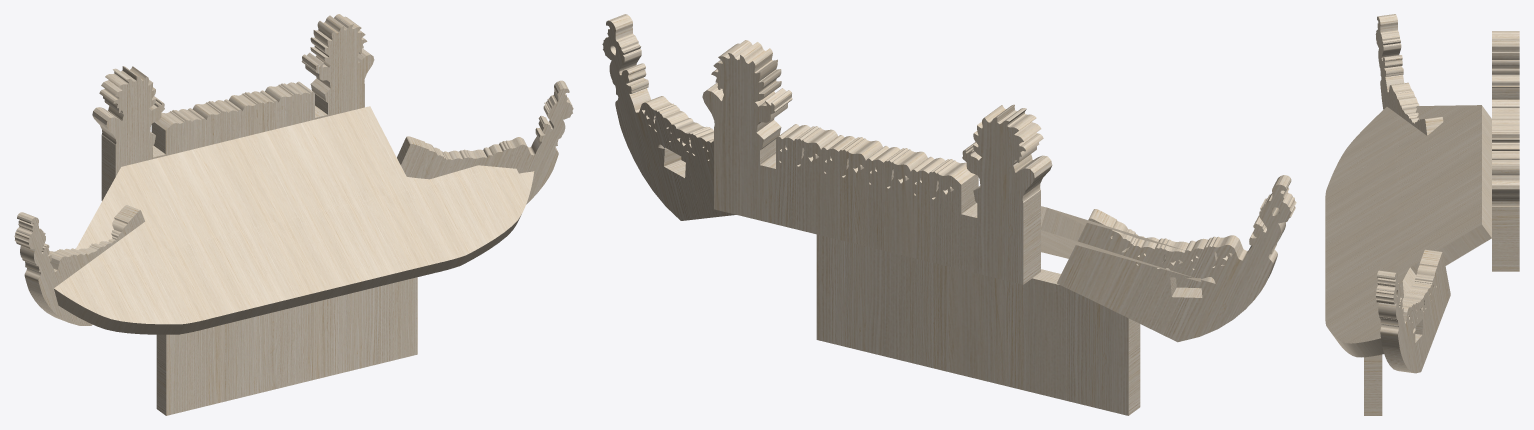
3 views of the same model, side by side, from view 1: azimuth 30°, elevation 25°; view 2: azimuth 150°, elevation 25°; view 3: azimuth 270°, elevation 25° (orthographic). The views are drawn at different scales.
Parts seen in each view (by area): view 1: Mesh3 Block_953_4_1 ___337_1 Model, Mesh1 ___346_1 Model, Mesh2 ___335_1 ___337_1 Model, Mesh5 ___336_2 ___337_1 Model, Mesh4 ___336_1 ___337_1 Model; view 2: Mesh2 ___335_1 ___337_1 Model, Mesh1 ___346_1 Model, Mesh4 ___336_1 ___337_1 Model, Mesh5 ___336_2 ___337_1 Model, Mesh3 Block_953_4_1 ___337_1 Model; view 3: Mesh3 Block_953_4_1 ___337_1 Model, Mesh2 ___335_1 ___337_1 Model, Mesh5 ___336_2 ___337_1 Model, Mesh4 ___336_1 ___337_1 Model, Mesh1 ___346_1 Model.
Boxes of the visible parts, bbox=[...] form: Mesh3 Block_953_4_1 ___337_1 Model: bbox=[54, 106, 534, 334]; Mesh1 ___346_1 Model: bbox=[156, 277, 417, 415]; Mesh2 ___335_1 ___337_1 Model: bbox=[92, 14, 374, 200]; Mesh5 ___336_2 ___337_1 Model: bbox=[397, 80, 573, 204]; Mesh4 ___336_1 ___337_1 Model: bbox=[14, 205, 144, 325]; Mesh2 ___335_1 ___337_1 Model: bbox=[702, 40, 1052, 284]; Mesh1 ___346_1 Model: bbox=[816, 234, 1140, 415]; Mesh4 ___336_1 ___337_1 Model: bbox=[1057, 175, 1296, 342]; Mesh5 ___336_2 ___337_1 Model: bbox=[602, 14, 735, 220]; Mesh3 Block_953_4_1 ___337_1 Model: bbox=[657, 144, 1215, 283]; Mesh3 Block_953_4_1 ___337_1 Model: bbox=[1325, 105, 1491, 357]; Mesh2 ___335_1 ___337_1 Model: bbox=[1492, 31, 1519, 271]; Mesh5 ___336_2 ___337_1 Model: bbox=[1376, 249, 1450, 373]; Mesh4 ___336_1 ___337_1 Model: bbox=[1375, 14, 1443, 135]; Mesh1 ___346_1 Model: bbox=[1364, 354, 1382, 415].
Bounding box in the file's own units: 68.19 × 33.21 × 21.06.
1 material, 1 textured.
